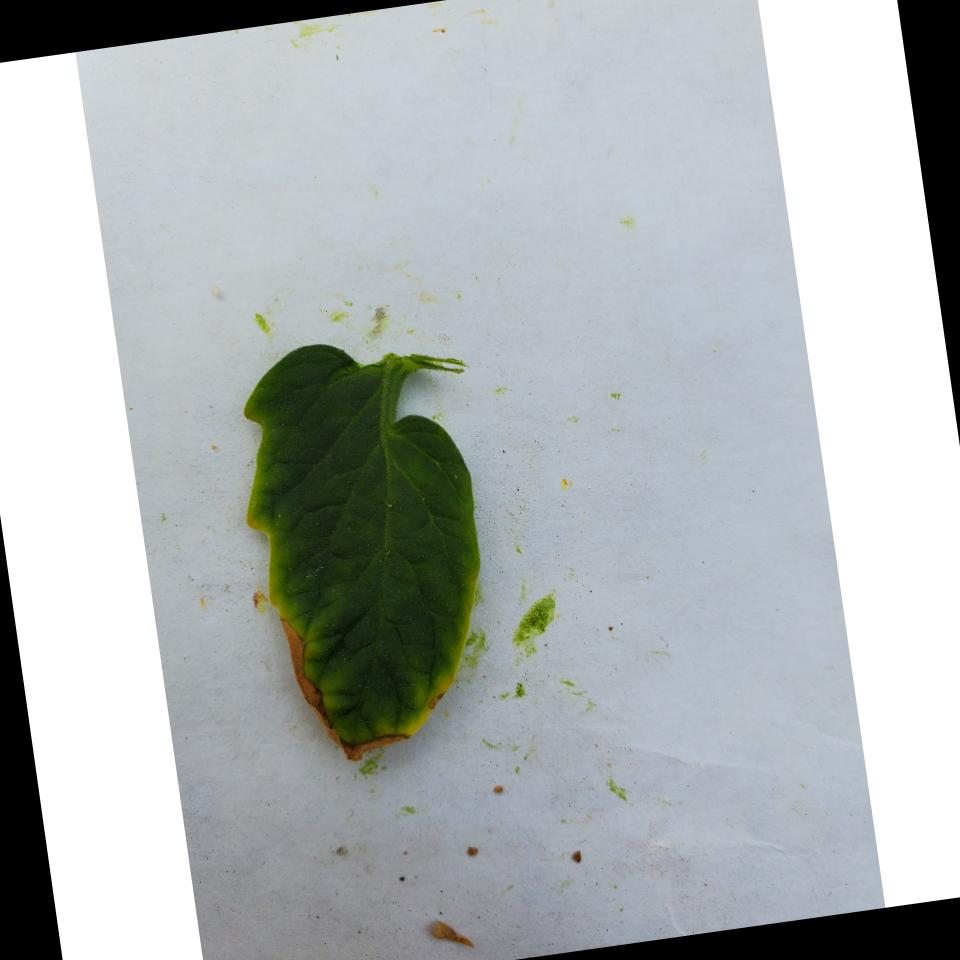tomato_bacterial_blight: (226, 311, 504, 778)
